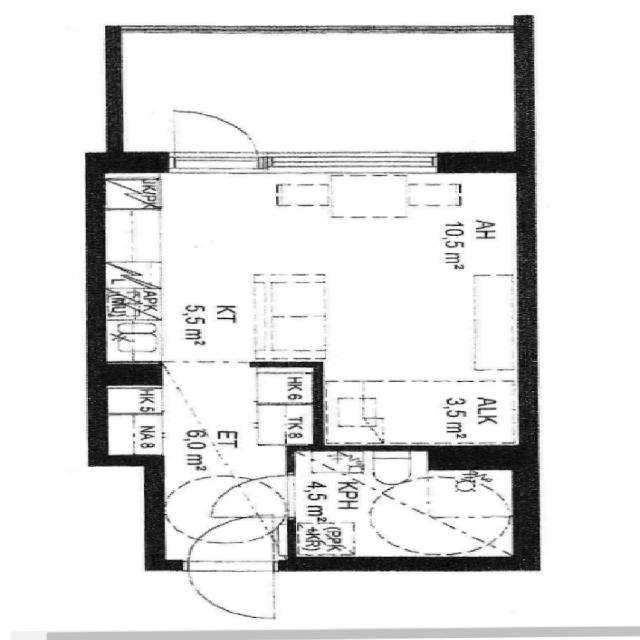door: (172, 514, 288, 622), (159, 106, 270, 174), (198, 473, 304, 522)
window: (267, 146, 452, 176)
zone: (132, 163, 539, 467), (286, 446, 523, 565), (94, 364, 314, 462)
